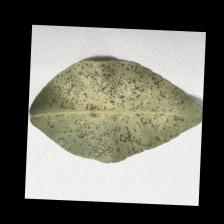canker: (68, 73, 162, 137)
